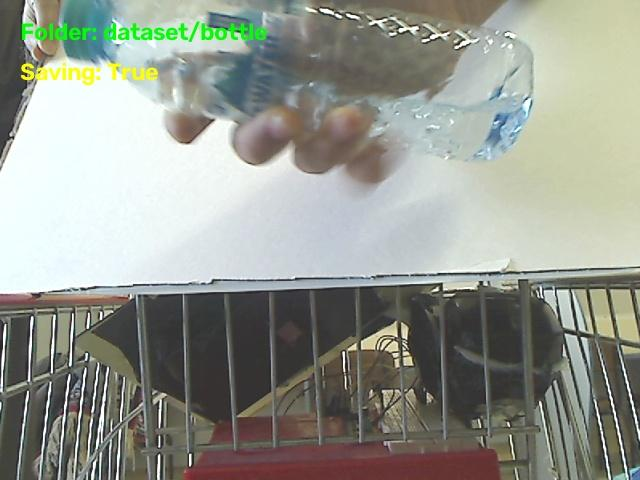Bottle: (62, 0, 532, 159)
